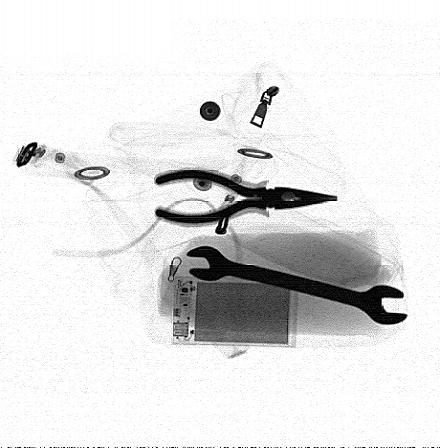Pliers: (153, 169, 338, 223)
Powerbank: (171, 276, 298, 348)
Wrench: (185, 244, 408, 324)
